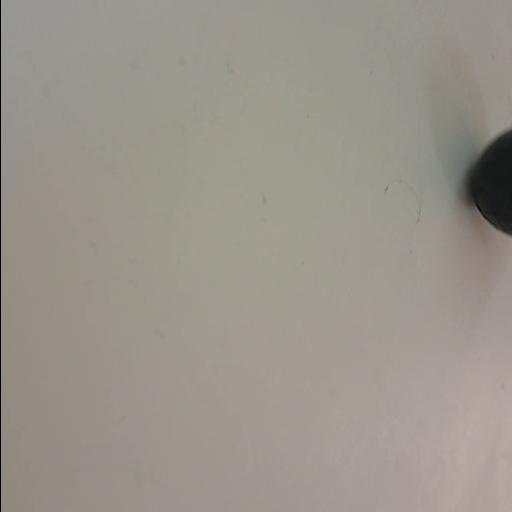dead: (468, 123, 512, 239)
